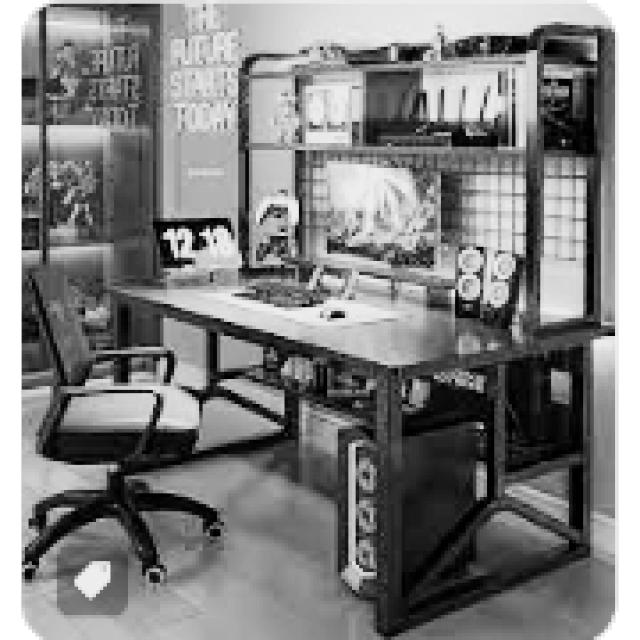book: (21, 264, 224, 582)
table: (103, 268, 612, 637)
